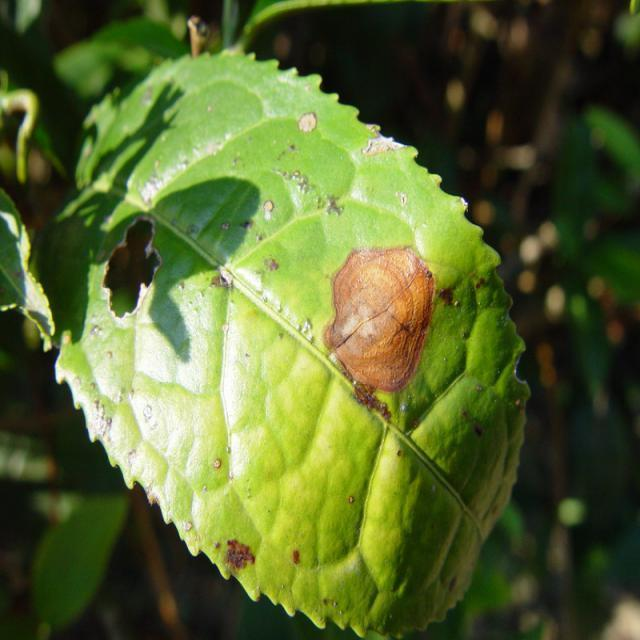Tea cloud leaf blight: (320, 238, 428, 395)
